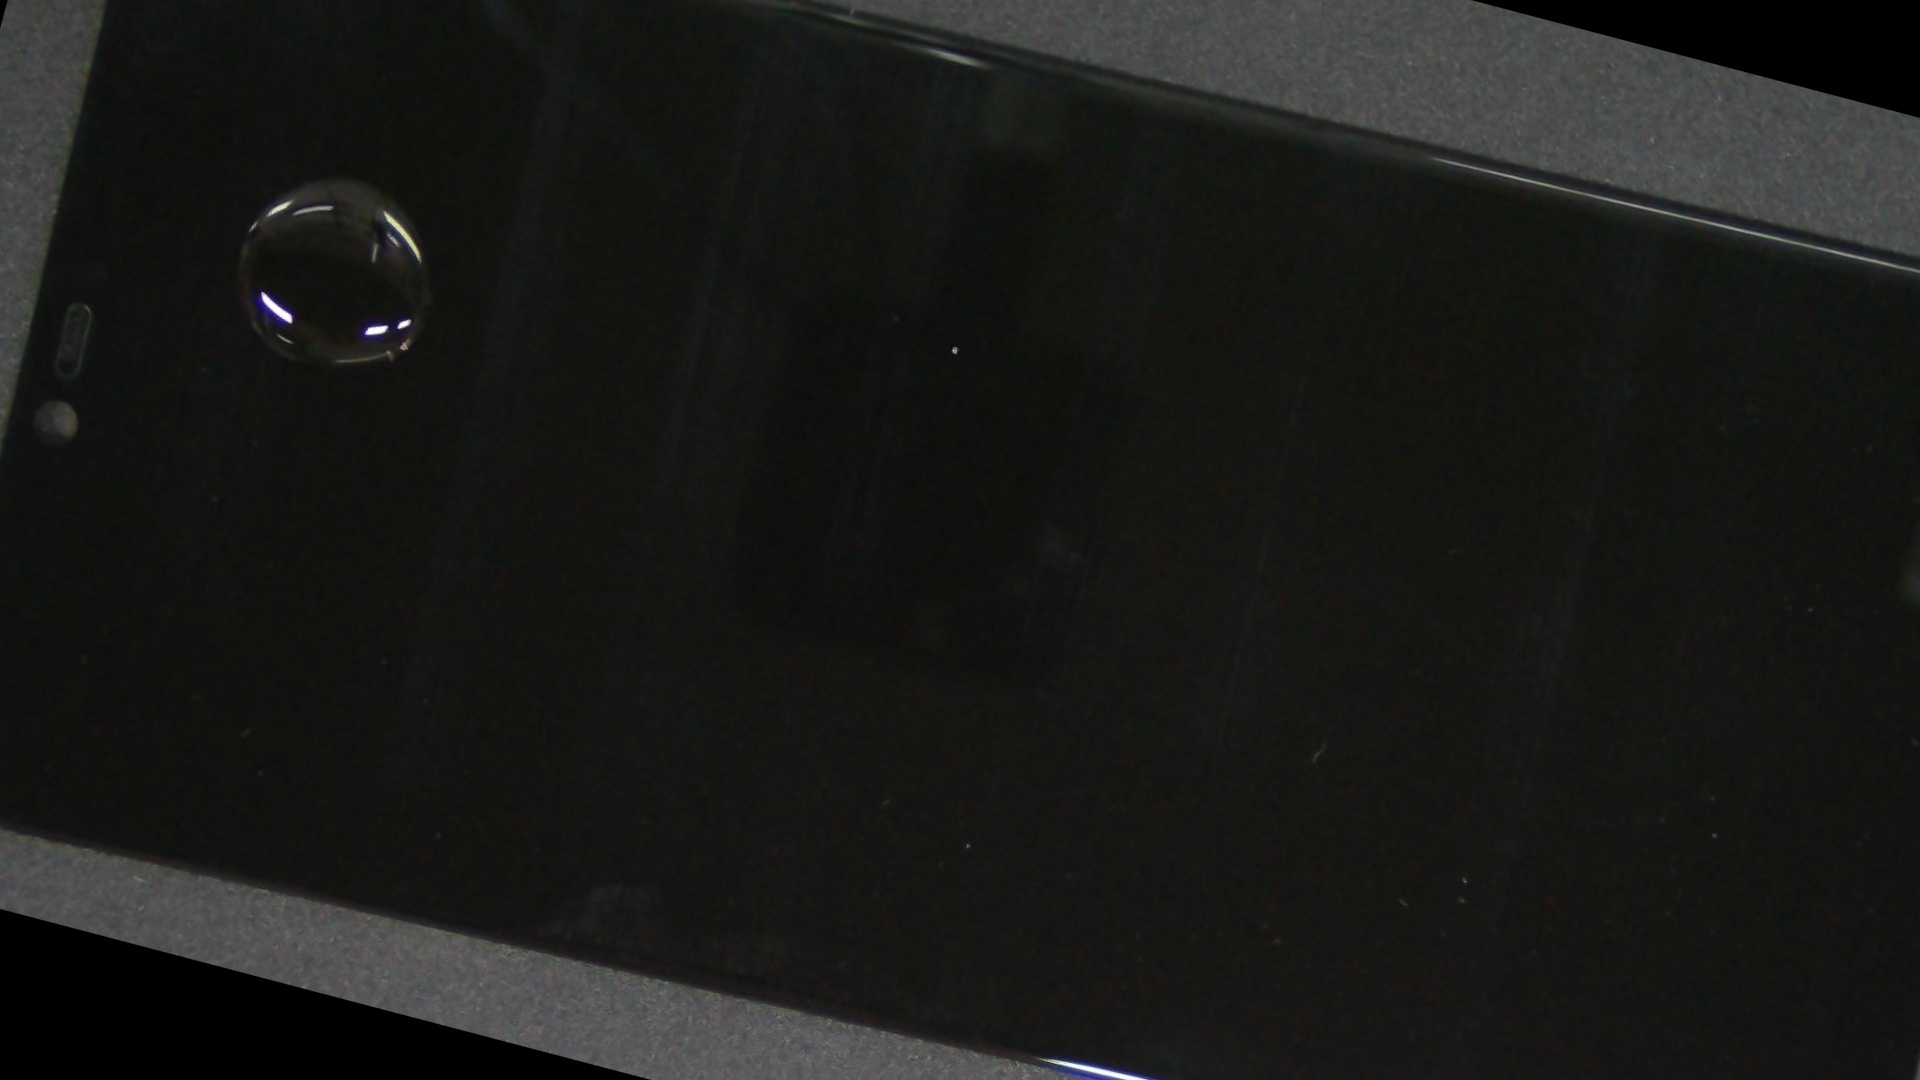oil: (111, 0, 592, 448)
